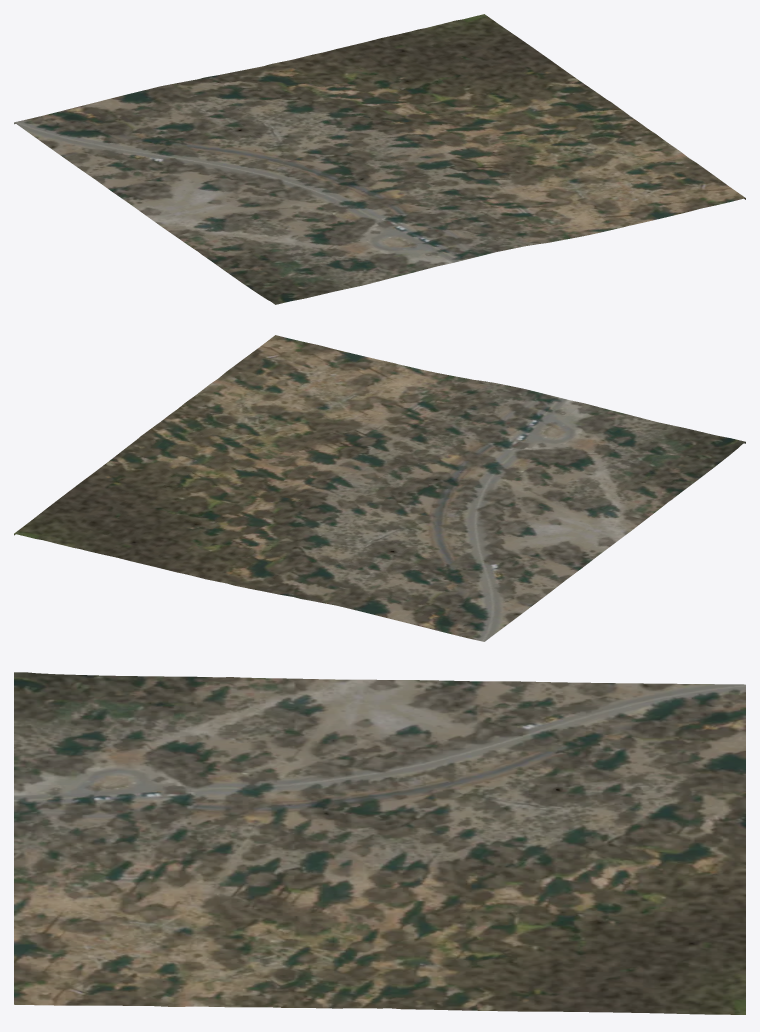
3 renders of one model, top to bottom at view 1: azimuth 30°, elevation 25°; view 2: azimuth 150°, elevation 25°; view 3: azimuth 270°, elevation 25°, orthographic. The views are drawn at different scales.
Bounding box in the file's own units: 250 × 8.77 × 241.
Materials: 1 (1 with a texture image).
